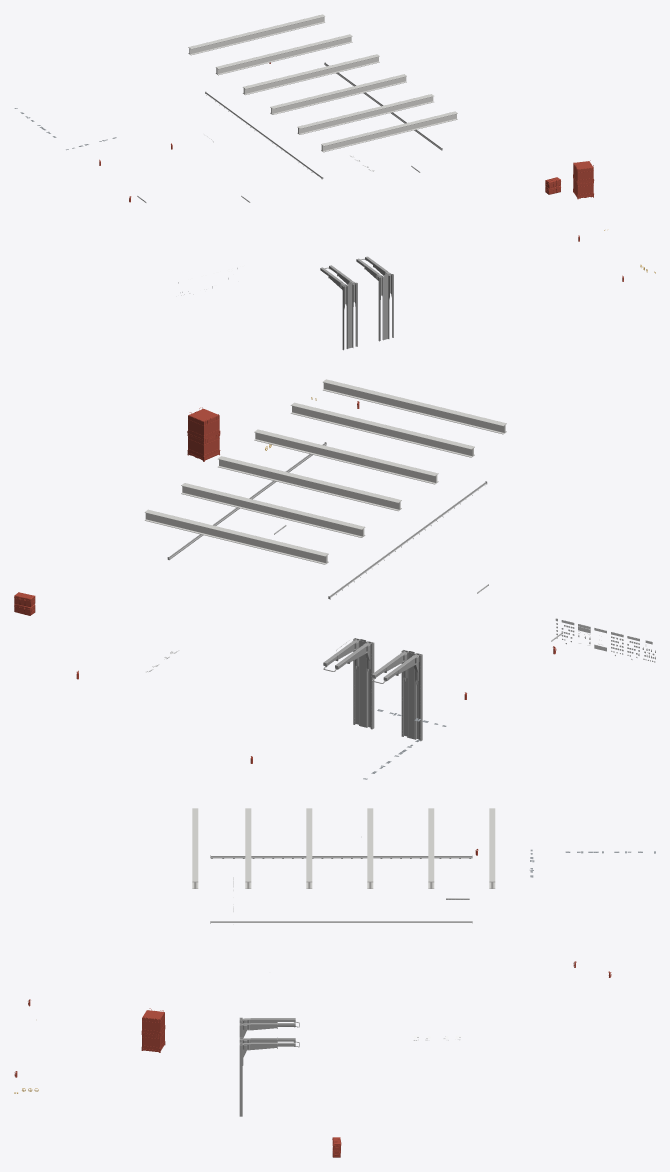
3 renders of one model, top to bottom at view 1: azimuth 30°, elevation 25°; view 2: azimuth 150°, elevation 25°; view 3: azimuth 270°, elevation 25°, orthographic. The views are drawn at different scales.
Parts seen in each view (by area): view 1: n0_lr0_agg_merge_web_joist_001_0_fragment21, n0_lr0_agg_merge_web_joist_001_0_fragment17, n0_lr0_agg_merge_metal_crate_002b_1_fragment1_c1_1, n0_lr0_agg_merge_nuke_industrial_props_002_2_fragment3; view 2: n0_lr0_agg_merge_web_joist_001_0_fragment21, n0_lr0_agg_merge_web_joist_001_0_fragment17, n0_lr0_agg_merge_metal_crate_002b_1_fragment1_c1_1, n0_lr0_agg_merge_nuke_industrial_props_002_2_fragment3, n0_lr0_agg_prop_control_room_displays_color_0_fragment1_c-1_; view 3: n0_lr0_agg_merge_web_joist_001_0_fragment21, n0_lr0_agg_merge_web_joist_001_0_fragment17, n0_lr0_agg_merge_nuke_industrial_props_002_2_fragment3, n0_lr0_agg_merge_metal_crate_002b_1_fragment1_c1_1.
Part boxes in pixels (box(x1,y1,x2,y2)): n0_lr0_agg_merge_web_joist_001_0_fragment21: box(188, 14, 457, 152); n0_lr0_agg_merge_web_joist_001_0_fragment17: box(320, 256, 393, 350); n0_lr0_agg_merge_metal_crate_002b_1_fragment1_c1_1: box(573, 160, 594, 199); n0_lr0_agg_merge_nuke_industrial_props_002_2_fragment3: box(205, 62, 442, 179); n0_lr0_agg_merge_web_joist_001_0_fragment21: box(144, 379, 506, 564); n0_lr0_agg_merge_web_joist_001_0_fragment17: box(323, 638, 422, 741); n0_lr0_agg_merge_metal_crate_002b_1_fragment1_c1_1: box(187, 407, 220, 461); n0_lr0_agg_merge_nuke_industrial_props_002_2_fragment3: box(167, 442, 487, 599); n0_lr0_agg_prop_control_room_displays_color_0_fragment1_c-1_: box(555, 618, 655, 662); n0_lr0_agg_merge_web_joist_001_0_fragment21: box(192, 808, 495, 888); n0_lr0_agg_merge_web_joist_001_0_fragment17: box(239, 1017, 299, 1116); n0_lr0_agg_merge_nuke_industrial_props_002_2_fragment3: box(210, 855, 472, 923); n0_lr0_agg_merge_metal_crate_002b_1_fragment1_c1_1: box(141, 1008, 165, 1052).
Bounding box in the file's own units: 2263 × 1158 × 2611.
